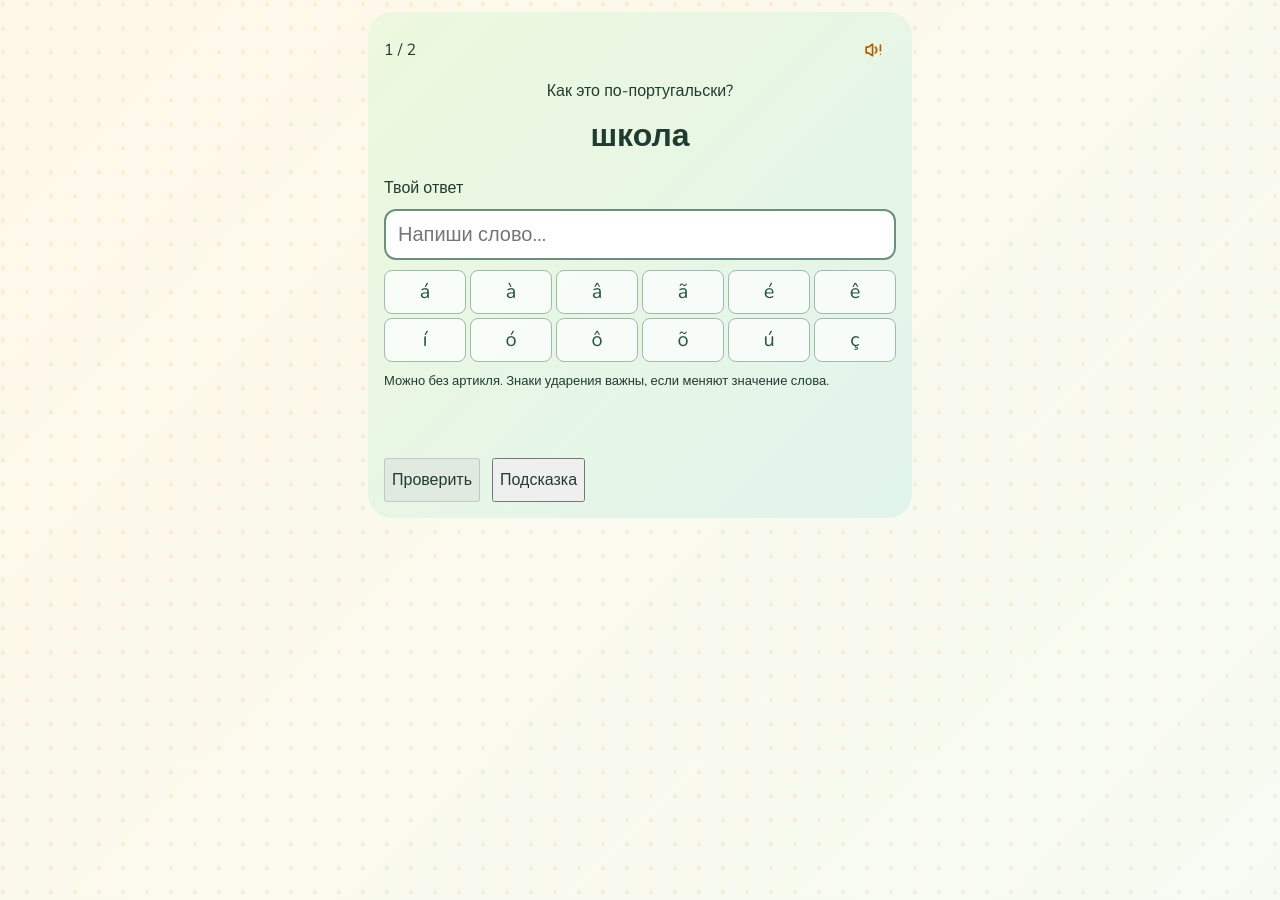
Scenario: VocabularyWriting › retries wrong answers, accepts Portuguese without articles or accents, and completes the set
Expected: the text "a escola" is not shown
Type "школа" into the field labelled "Твой ответ".
click(640, 234); type("школа")  # box left=384, top=209, right=896, bottom=260
Then press Enter
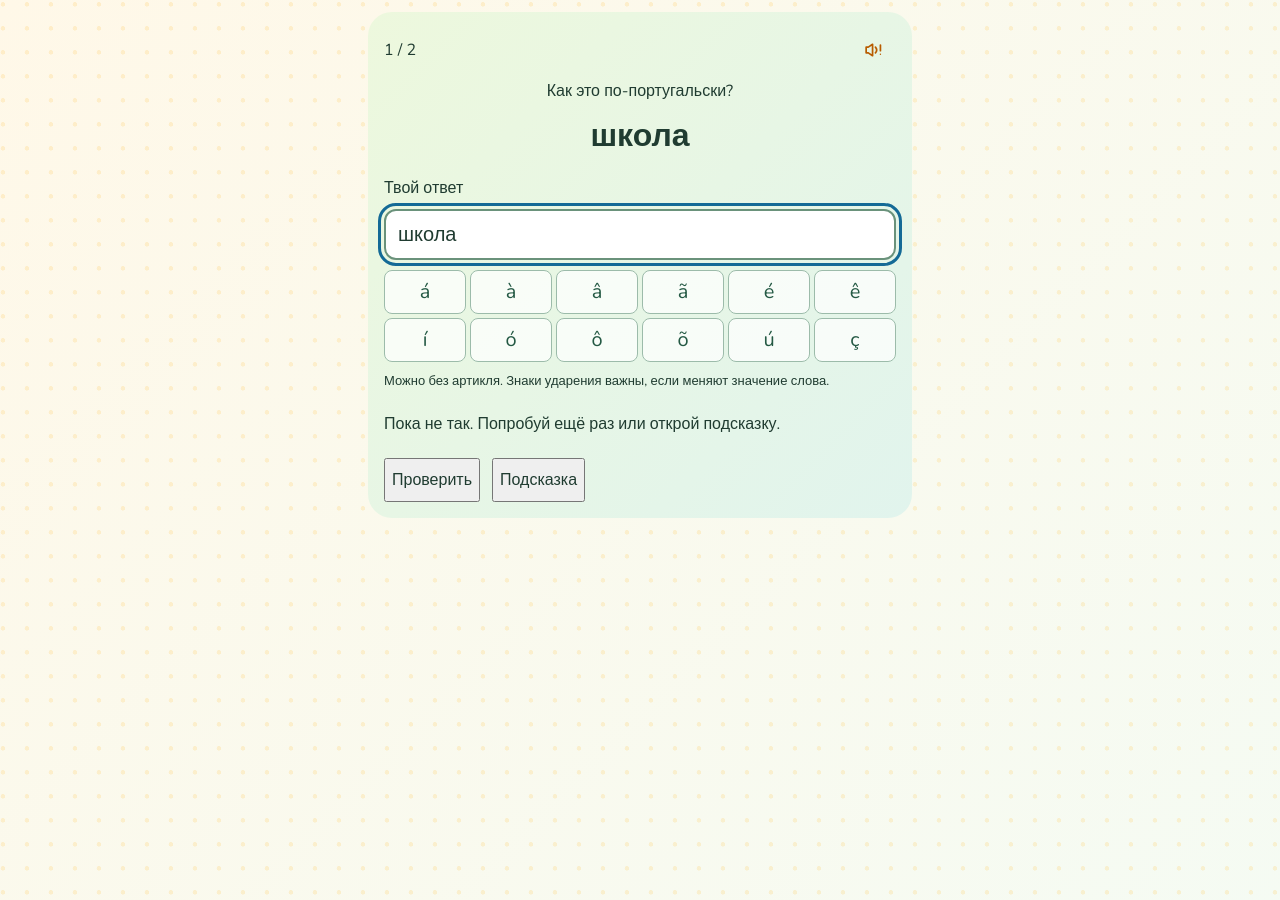
Expected: the message named "Результат проверки" shows "Пока не так", left=384, top=413, right=780, bottom=435
Replace the text in the field labelled "Твой ответ" with "escola" at (640, 234), box left=384, top=209, right=896, bottom=260
Then press Enter
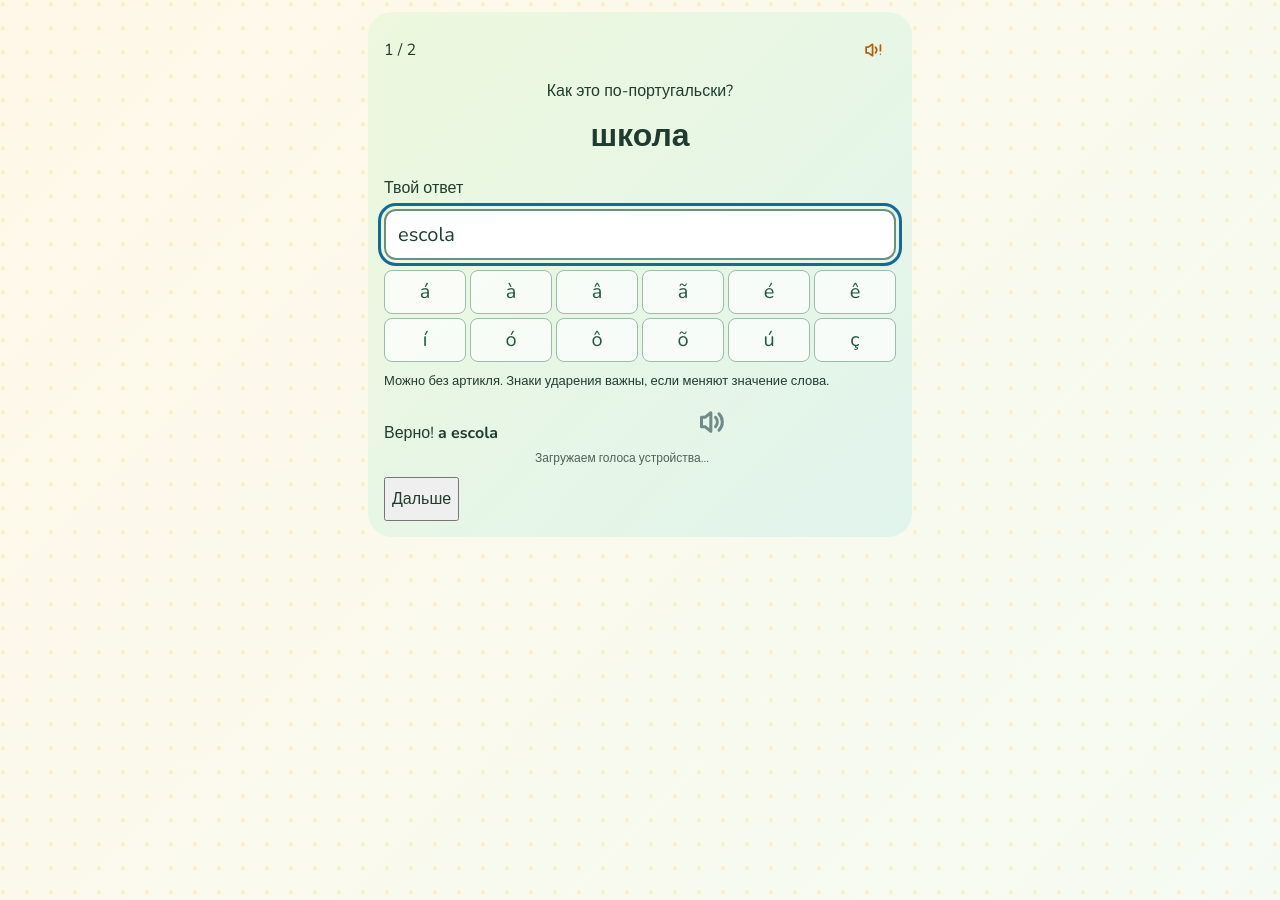
Expected: the message named "Результат проверки" shows "Верно! a escola", left=384, top=400, right=734, bottom=466
Click the button "Дальше".
click(422, 499)  # box left=384, top=477, right=459, bottom=521
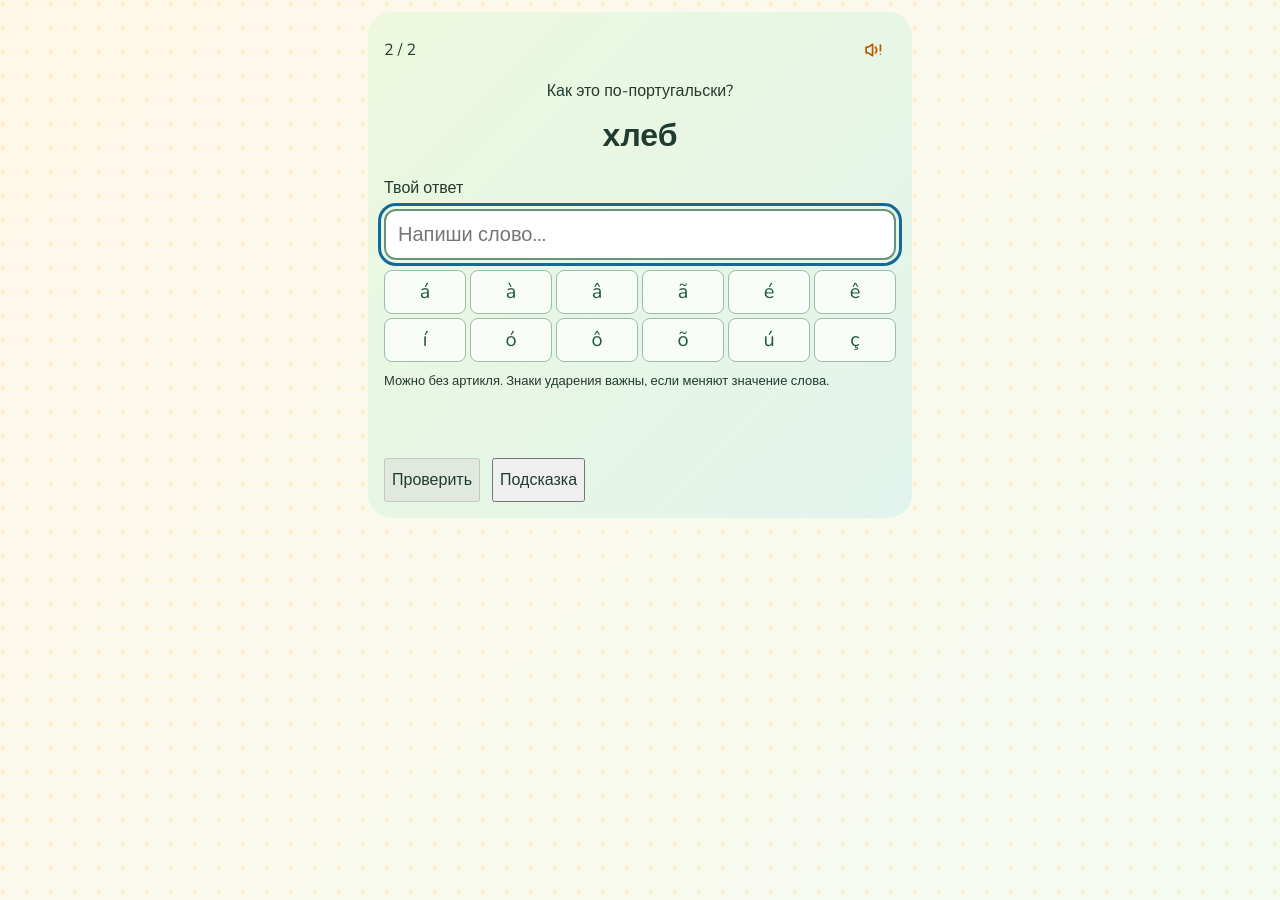
Type "pao" into the field labelled "Твой ответ".
click(640, 234); type("pao")  # box left=384, top=209, right=896, bottom=260
Then press Enter
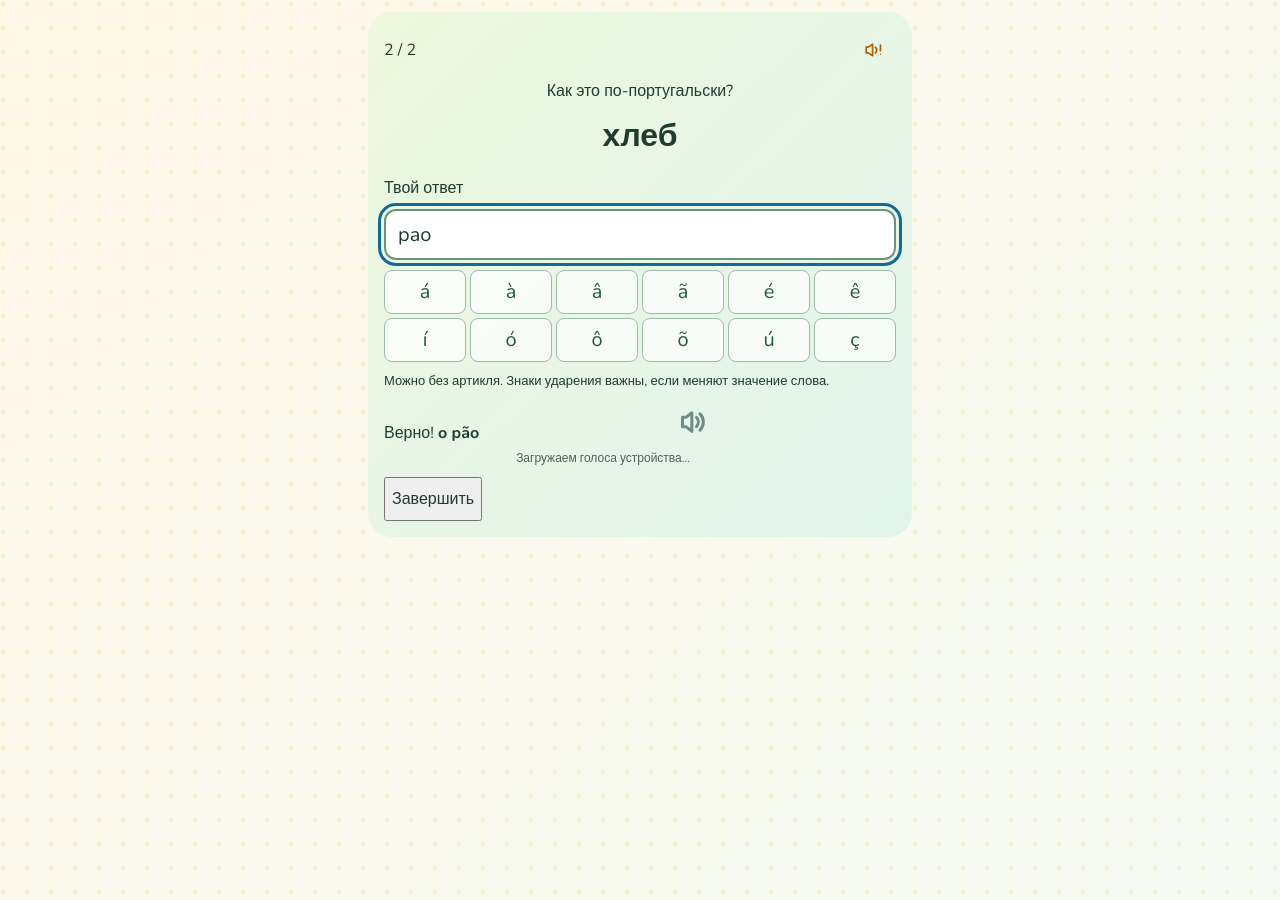
Click the button "Завершить".
click(433, 499)  # box left=384, top=477, right=482, bottom=521
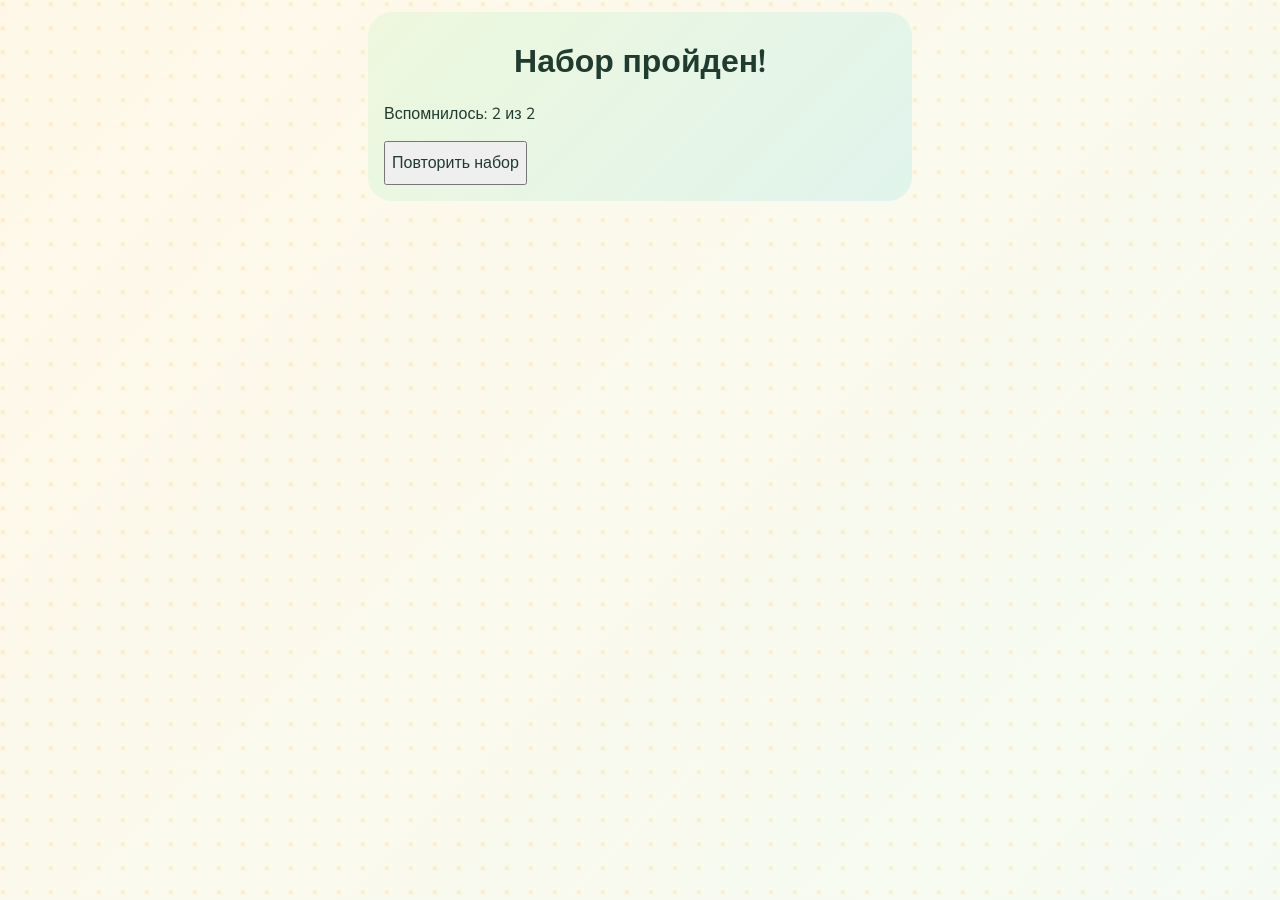
Expected: the text "Вспомнилось: 2 из 2" is shown, left=384, top=103, right=535, bottom=125
